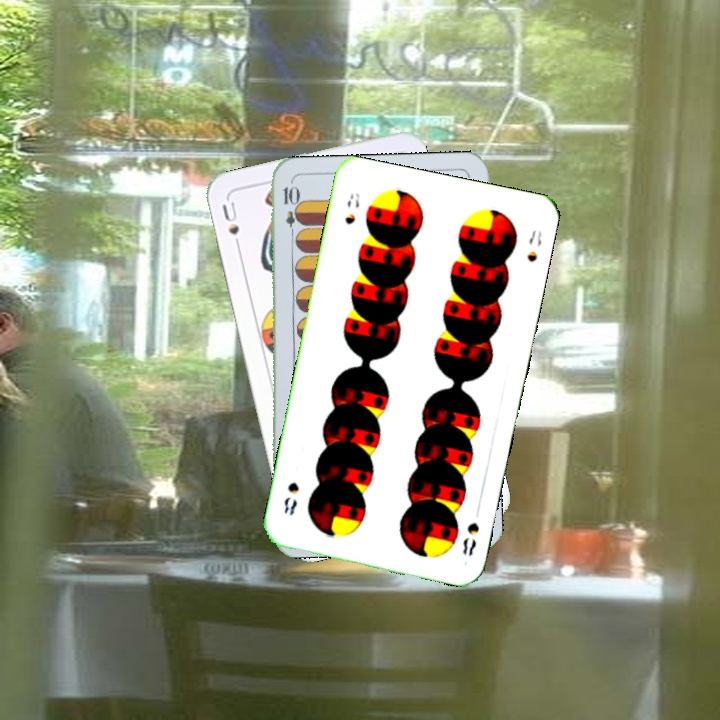E10: (279, 182, 299, 241)
S8: (458, 518, 482, 558), (341, 189, 363, 227)
SU: (218, 197, 244, 255)
